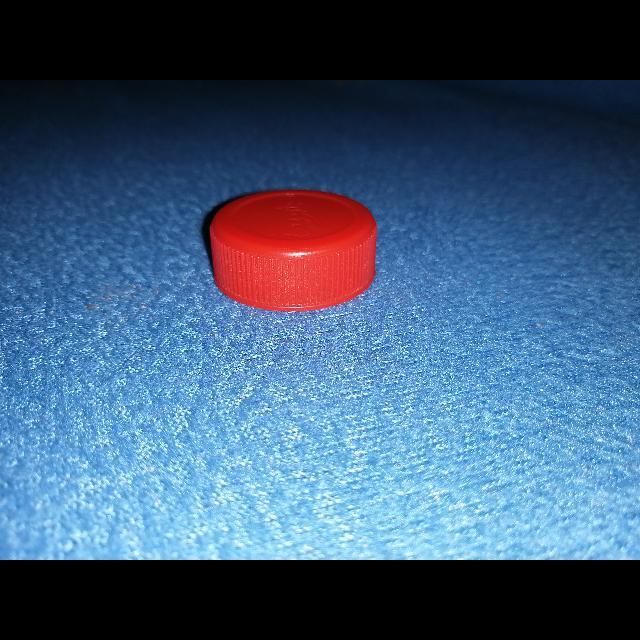plastic_bottle_cap: (209, 190, 377, 312)
